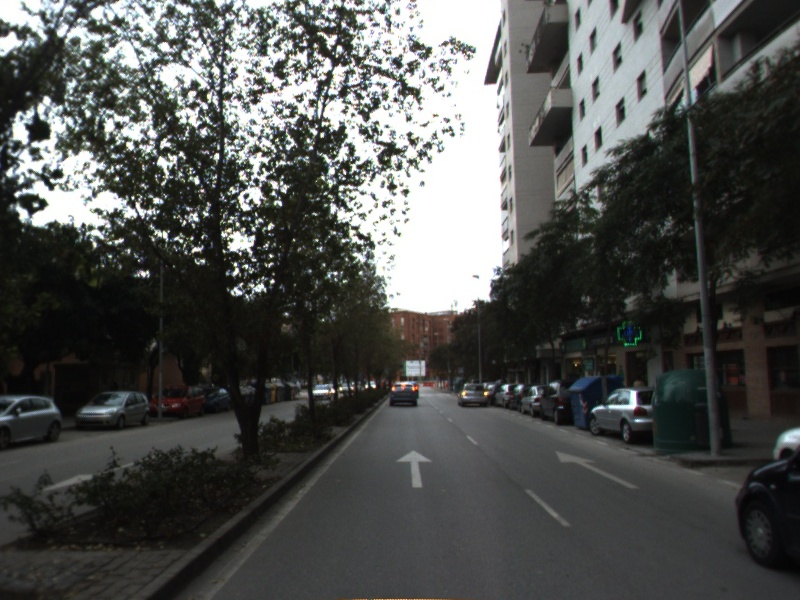STRAIGHT: (554, 449, 643, 491), (394, 449, 435, 489)
